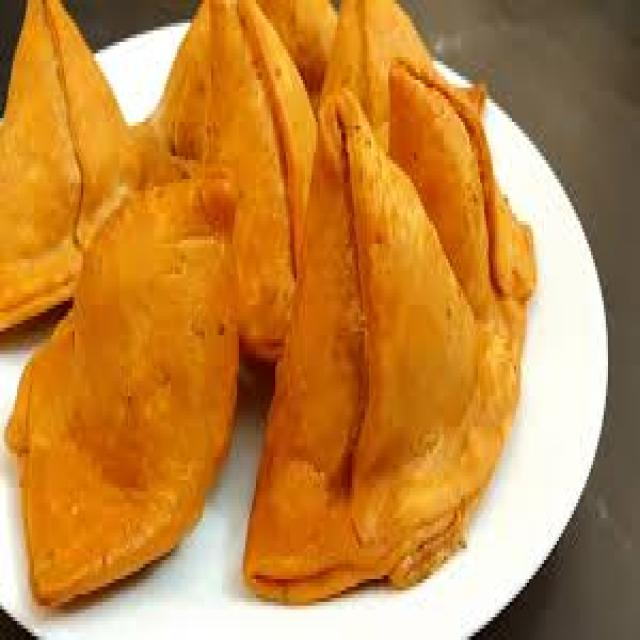SAMOSA: (243, 76, 533, 598), (9, 126, 233, 598), (162, 0, 314, 350), (0, 0, 126, 328), (324, 0, 429, 137), (258, 0, 335, 91)
